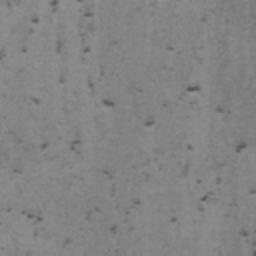Oxide scale of temperature system: (19, 83, 256, 256), (20, 0, 115, 108), (40, 140, 81, 152), (145, 115, 156, 127), (165, 42, 175, 51)
